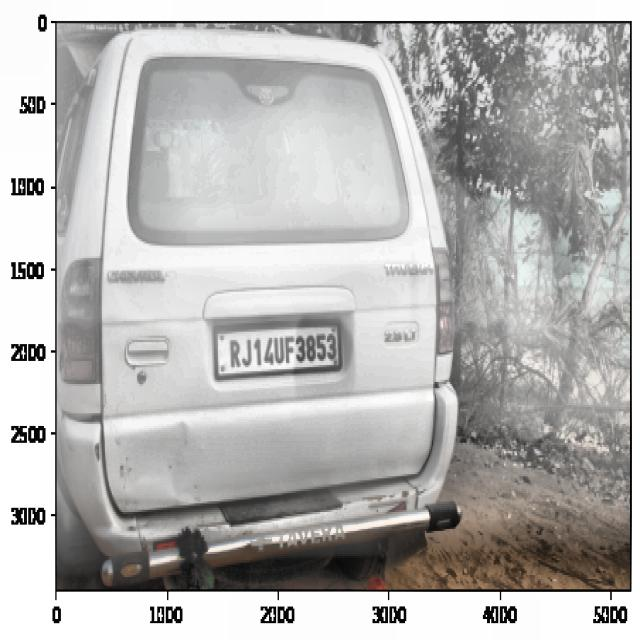license_plate: (226, 324, 340, 375)
